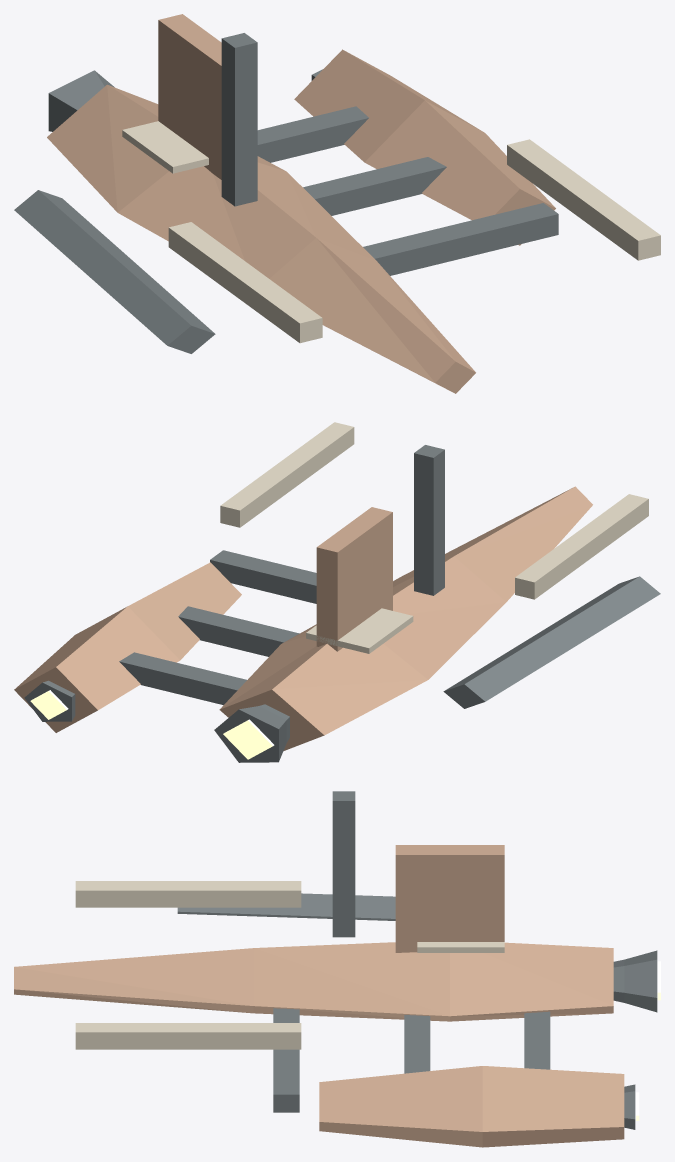
The picture shows the model from 3 angles, top to bottom: view 1: azimuth 30°, elevation 25°; view 2: azimuth 150°, elevation 25°; view 3: azimuth 270°, elevation 25°; orthographic projection. The views are drawn at different scales.
Bounding box in the file's own units: 10.46 × 5.63 × 13.76.
